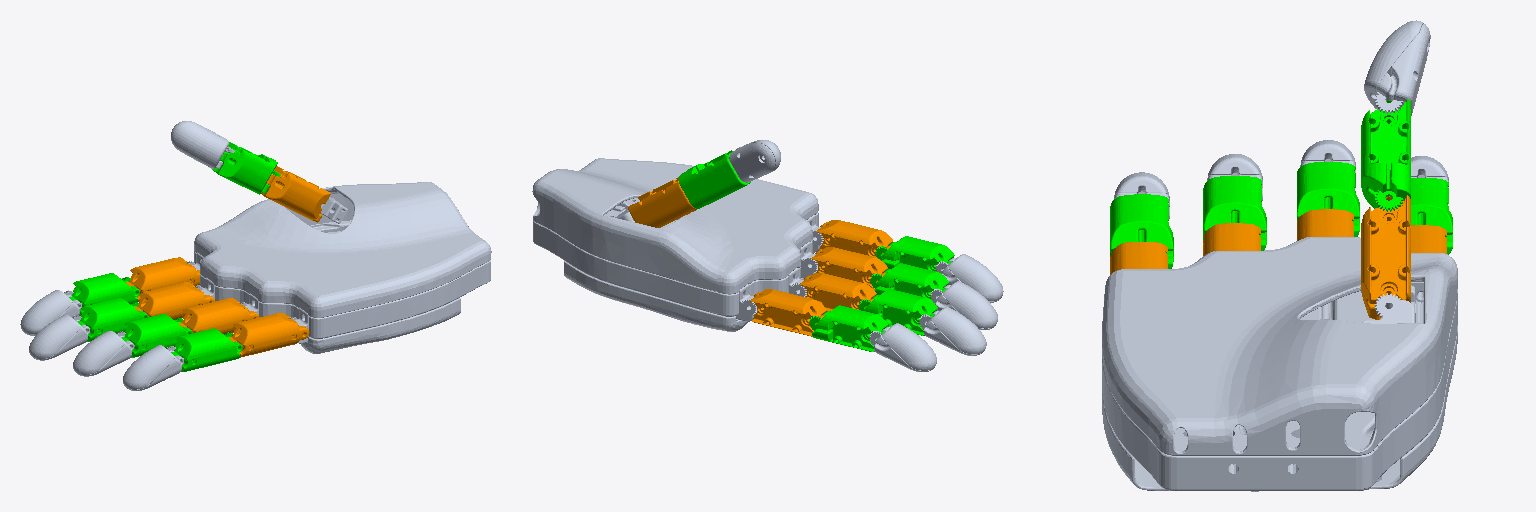
URDF robot description (Demo_urdf_v1):
<?xml version="1.0" encoding="utf-8"?>
<!-- This URDF was automatically created by SolidWorks to URDF Exporter! Originally created by Stephen Brawner (brawner@gmail.com) 
     Commit Version: 1.6.0-4-g7f85cfe  Build Version: 1.6.7995.38578
     For more information, please see http://wiki.ros.org/sw_urdf_exporter -->
<robot
  name="Demo_urdf_v1">
  <link
    name="base_link">
    <inertial>
      <origin
        xyz="-0.276691850958052 -0.00679699514218632 0.0271079155537804"
        rpy="0 0 0" />
      <mass
        value="0.118937765832508" />
      <inertia
        ixx="7.50225771502554E-05"
        ixy="1.0824903887145E-05"
        ixz="-4.36988365147381E-07"
        iyy="0.000125247274697285"
        iyz="-8.22465676234228E-07"
        izz="0.000197634240931225" />
    </inertial>
    <visual>
      <origin
        xyz="0 0 0"
        rpy="0 0 0" />
      <geometry>
        <mesh
          filename="../meshes/base_link.STL" />
      </geometry>
      <material
        name="">
        <color
          rgba="0.807843137254902 0.843137254901961 0.905882352941176 1" />
      </material>
    </visual>
    <collision>
      <origin
        xyz="0 0 0"
        rpy="0 0 0" />
      <geometry>
        <mesh
          filename="../meshes/base_link.STL" />
      </geometry>
    </collision>
  </link>
  <link
    name="link1_1">
    <inertial>
      <origin
        xyz="-0.016791 0.0004363 -0.0063885"
        rpy="0 0 0" />
      <mass
        value="0.0043065" />
      <inertia
        ixx="1.136E-07"
        ixy="-7.8546E-09"
        ixz="-8.4554E-09"
        iyy="3.8426E-07"
        iyz="3.0873E-09"
        izz="3.8715E-07" />
    </inertial>
    <visual>
      <origin
        xyz="0 0 0"
        rpy="0 0 0" />
      <geometry>
        <mesh
          filename="../meshes/link1_1.STL" />
      </geometry>
      <material
        name="">
        <color
          rgba="1 0.6 0 1" />
      </material>
    </visual>
    <collision>
      <origin
        xyz="0 0 0"
        rpy="0 0 0" />
      <geometry>
        <mesh
          filename="../meshes/link1_1.STL" />
      </geometry>
    </collision>
  </link>
  <joint
    name="pinky_mcp"
    type="revolute">
    <origin
      xyz="-0.32226 -0.052285 0.024636"
      rpy="1.5708 0 0" />
    <parent
      link="base_link" />
    <child
      link="link1_1" />
    <axis
      xyz="0 0 -1" />
    <limit
      lower="0"
      upper="1.22"
      effort="100"
      velocity="10" />
  </joint>
  <link
    name="link1_2">
    <inertial>
      <origin
        xyz="-0.0140713192299285 0.000184841443215608 -0.00534092772480163"
        rpy="0 0 0" />
      <mass
        value="0.0043622053966153" />
      <inertia
        ixx="1.30627059784595E-07"
        ixy="3.73911764864034E-09"
        ixz="1.7569801778505E-08"
        iyy="3.45005755950099E-07"
        iyz="1.01984025115493E-09"
        izz="3.3008063564416E-07" />
    </inertial>
    <visual>
      <origin
        xyz="0 0 0"
        rpy="0 0 0" />
      <geometry>
        <mesh
          filename="../meshes/link1_2.STL" />
      </geometry>
      <material
        name="">
        <color
          rgba="0 1 0 1" />
      </material>
    </visual>
    <collision>
      <origin
        xyz="0 0 0"
        rpy="0 0 0" />
      <geometry>
        <mesh
          filename="../meshes/link1_2.STL" />
      </geometry>
    </collision>
  </link>
  <joint
    name="pinky_pip"
    type="revolute">
    <origin
      xyz="-0.03359 0 -0.0017"
      rpy="0 0 0" />
    <parent
      link="link1_1" />
    <child
      link="link1_2" />
    <axis
      xyz="0 0 -1" />
    <limit
      lower="0"
      upper="1.39"
      effort="100"
      velocity="10" />
  </joint>
  <link
    name="link1_3">
    <inertial>
      <origin
        xyz="-0.0116557728461658 -0.00325678066856888 -0.0017405653903569"
        rpy="0 0 0" />
      <mass
        value="0.00274070367306949" />
      <inertia
        ixx="8.581326086562E-08"
        ixy="-4.79524790152063E-08"
        ixz="-4.45472239213644E-10"
        iyy="1.51772678137876E-07"
        iyz="-4.94651648238812E-10"
        izz="1.39369777995525E-07" />
    </inertial>
    <visual>
      <origin
        xyz="0 0 0"
        rpy="0 0 0" />
      <geometry>
        <mesh
          filename="../meshes/link1_3.STL" />
      </geometry>
      <material
        name="">
        <color
          rgba="0.807843137254902 0.843137254901961 0.905882352941176 1" />
      </material>
    </visual>
    <collision>
      <origin
        xyz="0 0 0"
        rpy="0 0 0" />
      <geometry>
        <mesh
          filename="../meshes/link1_3.STL" />
      </geometry>
    </collision>
  </link>
  <joint
    name="pinky_dip"
    type="revolute">
    <origin
      xyz="-0.03 0 -0.0047"
      rpy="0 0 0" />
    <parent
      link="link1_2" />
    <child
      link="link1_3" />
    <axis
      xyz="0 0 -1" />
    <limit
      lower="0"
      upper="1.39"
      effort="100"
      velocity="10" />
  </joint>
  <link
    name="link2_1">
    <inertial>
      <origin
        xyz="-0.0167910153892711 0.00043630387211905 -0.00278849217885846"
        rpy="0 0 0" />
      <mass
        value="0.00430646622487593" />
      <inertia
        ixx="1.13603188034335E-07"
        ixy="-7.85458563722642E-09"
        ixz="-8.4554420660212E-09"
        iyy="3.84256352899568E-07"
        iyz="3.08732548499075E-09"
        izz="3.87149024711531E-07" />
    </inertial>
    <visual>
      <origin
        xyz="0 0 0"
        rpy="0 0 0" />
      <geometry>
        <mesh
          filename="../meshes/link2_1.STL" />
      </geometry>
      <material
        name="">
        <color
          rgba="1 0.6 0 1" />
      </material>
    </visual>
    <collision>
      <origin
        xyz="0 0 0"
        rpy="0 0 0" />
      <geometry>
        <mesh
          filename="../meshes/link2_1.STL" />
      </geometry>
    </collision>
  </link>
  <joint
    name="ring_mcp"
    type="revolute">
    <origin
      xyz="-0.33407 -0.023685 0.024636"
      rpy="1.5708 0 0" />
    <parent
      link="base_link" />
    <child
      link="link2_1" />
    <axis
      xyz="0 0 -1" />
    <limit
      lower="0"
      upper="1.22"
      effort="100"
      velocity="10" />
  </joint>
  <link
    name="link2_2">
    <inertial>
      <origin
        xyz="-0.0140713192839576 0.000184841479738945 -0.0019409277903109"
        rpy="0 0 0" />
      <mass
        value="0.00436220544144609" />
      <inertia
        ixx="1.30627062477892E-07"
        ixy="3.73911872970818E-09"
        ixz="1.75698001735709E-08"
        iyy="3.45005759760731E-07"
        iyz="1.01984132689412E-09"
        izz="3.30080638240078E-07" />
    </inertial>
    <visual>
      <origin
        xyz="0 0 0"
        rpy="0 0 0" />
      <geometry>
        <mesh
          filename="../meshes/link2_2.STL" />
      </geometry>
      <material
        name="">
        <color
          rgba="0 1 0 1" />
      </material>
    </visual>
    <collision>
      <origin
        xyz="0 0 0"
        rpy="0 0 0" />
      <geometry>
        <mesh
          filename="../meshes/link2_2.STL" />
      </geometry>
    </collision>
  </link>
  <joint
    name="ring_pip"
    type="revolute">
    <origin
      xyz="-0.03359 0 -0.0015"
      rpy="0 0 0" />
    <parent
      link="link2_1" />
    <child
      link="link2_2" />
    <axis
      xyz="0 0 -1" />
    <limit
      lower="0"
      upper="1.39"
      effort="100"
      velocity="10" />
  </joint>
  <link
    name="link2_3">
    <inertial>
      <origin
        xyz="-0.011655780475307 -0.00325676839012254 0.00185942040088097"
        rpy="0 0 0" />
      <mass
        value="0.00274069743742847" />
      <inertia
        ixx="8.5813050631535E-08"
        ixy="-4.7952426188127E-08"
        ixz="-4.4546557852749E-10"
        iyy="1.51772401976439E-07"
        iyz="-4.94763216892908E-10"
        izz="1.3936970721227E-07" />
    </inertial>
    <visual>
      <origin
        xyz="0 0 0"
        rpy="0 0 0" />
      <geometry>
        <mesh
          filename="../meshes/link2_3.STL" />
      </geometry>
      <material
        name="">
        <color
          rgba="0.807843137254902 0.843137254901961 0.905882352941176 1" />
      </material>
    </visual>
    <collision>
      <origin
        xyz="0 0 0"
        rpy="0 0 0" />
      <geometry>
        <mesh
          filename="../meshes/link2_3.STL" />
      </geometry>
    </collision>
  </link>
  <joint
    name="ring_dip"
    type="revolute">
    <origin
      xyz="-0.03 0 -0.0049"
      rpy="0 0 0" />
    <parent
      link="link2_2" />
    <child
      link="link2_3" />
    <axis
      xyz="0 0 -1" />
    <limit
      lower="0"
      upper="1.39"
      effort="100"
      velocity="10" />
  </joint>
  <link
    name="link3_1">
    <inertial>
      <origin
        xyz="-0.0167910153776111 0.000436303876884481 -0.00278849217581445"
        rpy="0 0 0" />
      <mass
        value="0.00430646622952805" />
      <inertia
        ixx="1.13603188167855E-07"
        ixy="-7.85458587102222E-09"
        ixz="-8.45544222065919E-09"
        iyy="3.84256353513381E-07"
        iyz="3.08732542077117E-09"
        izz="3.871490253804E-07" />
    </inertial>
    <visual>
      <origin
        xyz="0 0 0"
        rpy="0 0 0" />
      <geometry>
        <mesh
          filename="../meshes/link3_1.STL" />
      </geometry>
      <material
        name="">
        <color
          rgba="1 0.6 0 1" />
      </material>
    </visual>
    <collision>
      <origin
        xyz="0 0 0"
        rpy="0 0 0" />
      <geometry>
        <mesh
          filename="../meshes/link3_1.STL" />
      </geometry>
    </collision>
  </link>
  <joint
    name="middle_mcp"
    type="revolute">
    <origin
      xyz="-0.34286 0.0013152 0.024636"
      rpy="1.5708 0 0" />
    <parent
      link="base_link" />
    <child
      link="link3_1" />
    <axis
      xyz="0 0 -1" />
    <limit
      lower="0"
      upper="1.22"
      effort="100"
      velocity="10" />
  </joint>
  <link
    name="link3_2">
    <inertial>
      <origin
        xyz="-0.0140713192346698 0.000184841437010651 -0.000840927727752855"
        rpy="0 0 0" />
      <mass
        value="0.00436220540069286" />
      <inertia
        ixx="1.30627059788518E-07"
        ixy="3.73911756926656E-09"
        ixz="1.75698018564532E-08"
        iyy="3.45005756657766E-07"
        iyz="1.01984007943479E-09"
        izz="3.30080636184012E-07" />
    </inertial>
    <visual>
      <origin
        xyz="0 0 0"
        rpy="0 0 0" />
      <geometry>
        <mesh
          filename="../meshes/link3_2.STL" />
      </geometry>
      <material
        name="">
        <color
          rgba="0 1 0 1" />
      </material>
    </visual>
    <collision>
      <origin
        xyz="0 0 0"
        rpy="0 0 0" />
      <geometry>
        <mesh
          filename="../meshes/link3_2.STL" />
      </geometry>
    </collision>
  </link>
  <joint
    name="middle_pip"
    type="revolute">
    <origin
      xyz="-0.03359 0 -0.0026"
      rpy="0 0 0" />
    <parent
      link="link3_1" />
    <child
      link="link3_2" />
    <axis
      xyz="0 0 -1" />
    <limit
      lower="0"
      upper="1.39"
      effort="100"
      velocity="10" />
  </joint>
  <link
    name="link3_3">
    <inertial>
      <origin
        xyz="-0.0116557744553441 -0.00325678154604352 0.00185943682581026"
        rpy="0 0 0" />
      <mass
        value="0.00274070418159376" />
      <inertia
        ixx="8.58133148388386E-08"
        ixy="-4.79524739892539E-08"
        ixz="-4.45440860439419E-10"
        iyy="1.51772697709827E-07"
        iyz="-4.94638824849694E-10"
        izz="1.39369743348582E-07" />
    </inertial>
    <visual>
      <origin
        xyz="0 0 0"
        rpy="0 0 0" />
      <geometry>
        <mesh
          filename="../meshes/link3_3.STL" />
      </geometry>
      <material
        name="">
        <color
          rgba="0.807843137254902 0.843137254901961 0.905882352941176 1" />
      </material>
    </visual>
    <collision>
      <origin
        xyz="0 0 0"
        rpy="0 0 0" />
      <geometry>
        <mesh
          filename="../meshes/link3_3.STL" />
      </geometry>
    </collision>
  </link>
  <joint
    name="middle_dip"
    type="revolute">
    <origin
      xyz="-0.03 0 -0.0038"
      rpy="0 0 0" />
    <parent
      link="link3_2" />
    <child
      link="link3_3" />
    <axis
      xyz="0 0 -1" />
    <limit
      lower="0"
      upper="1.39"
      effort="100"
      velocity="10" />
  </joint>
  <link
    name="link4_1">
    <inertial>
      <origin
        xyz="-0.0167910153897738 0.000436303872832444 -0.00278849217827209"
        rpy="0 0 0" />
      <mass
        value="0.00430646622476171" />
      <inertia
        ixx="1.13603188038388E-07"
        ixy="-7.85458566731202E-09"
        ixz="-8.45544209242269E-09"
        iyy="3.84256352863369E-07"
        iyz="3.08732548406429E-09"
        izz="3.87149024685476E-07" />
    </inertial>
    <visual>
      <origin
        xyz="0 0 0"
        rpy="0 0 0" />
      <geometry>
        <mesh
          filename="../meshes/link4_1.STL" />
      </geometry>
      <material
        name="">
        <color
          rgba="1 0.6 0 1" />
      </material>
    </visual>
    <collision>
      <origin
        xyz="0 0 0"
        rpy="0 0 0" />
      <geometry>
        <mesh
          filename="../meshes/link4_1.STL" />
      </geometry>
    </collision>
  </link>
  <joint
    name="index_mcp"
    type="revolute">
    <origin
      xyz="-0.3328 0.026315 0.024636"
      rpy="1.5708 0 0" />
    <parent
      link="base_link" />
    <child
      link="link4_1" />
    <axis
      xyz="0 0 -1" />
    <limit
      lower="0"
      upper="1.22"
      effort="100"
      velocity="10" />
  </joint>
  <link
    name="link4_2">
    <inertial>
      <origin
        xyz="-0.0140713191942678 0.000184841402766124 -0.000840927659380038"
        rpy="0 0 0" />
      <mass
        value="0.004362205362105" />
      <inertia
        ixx="1.30627057095179E-07"
        ixy="3.73911662238674E-09"
        ixz="1.75698034461654E-08"
        iyy="3.45005753718254E-07"
        iyz="1.0198389865939E-09"
        izz="3.30080634538108E-07" />
    </inertial>
    <visual>
      <origin
        xyz="0 0 0"
        rpy="0 0 0" />
      <geometry>
        <mesh
          filename="../meshes/link4_2.STL" />
      </geometry>
      <material
        name="">
        <color
          rgba="0 1 0 1" />
      </material>
    </visual>
    <collision>
      <origin
        xyz="0 0 0"
        rpy="0 0 0" />
      <geometry>
        <mesh
          filename="../meshes/link4_2.STL" />
      </geometry>
    </collision>
  </link>
  <joint
    name="index_pip"
    type="revolute">
    <origin
      xyz="-0.03359 0 -0.0026"
      rpy="0 0 0" />
    <parent
      link="link4_1" />
    <child
      link="link4_2" />
    <axis
      xyz="0 0 -1" />
    <limit
      lower="0"
      upper="1.39"
      effort="100"
      velocity="10" />
  </joint>
  <link
    name="link4_3">
    <inertial>
      <origin
        xyz="-0.0116557728740648 -0.00325678068234626 -0.00174056536779698"
        rpy="0 0 0" />
      <mass
        value="0.00274070366188495" />
      <inertia
        ixx="8.58132602881276E-08"
        ixy="-4.79524788619592E-08"
        ixz="-4.45472091583115E-10"
        iyy="1.51772678049037E-07"
        iyz="-4.94651660834386E-10"
        izz="1.39369777796999E-07" />
    </inertial>
    <visual>
      <origin
        xyz="0 0 0"
        rpy="0 0 0" />
      <geometry>
        <mesh
          filename="../meshes/link4_3.STL" />
      </geometry>
      <material
        name="">
        <color
          rgba="0.807843137254902 0.843137254901961 0.905882352941176 1" />
      </material>
    </visual>
    <collision>
      <origin
        xyz="0 0 0"
        rpy="0 0 0" />
      <geometry>
        <mesh
          filename="../meshes/link4_3.STL" />
      </geometry>
    </collision>
  </link>
  <joint
    name="index_dip"
    type="revolute">
    <origin
      xyz="-0.03 0 -0.0002"
      rpy="0 0 0" />
    <parent
      link="link4_2" />
    <child
      link="link4_3" />
    <axis
      xyz="0 0 -1" />
    <limit
      lower="0"
      upper="1.39"
      effort="100"
      velocity="10" />
  </joint>
  <link
    name="link5_1">
    <inertial>
      <origin
        xyz="-0.0167909747281515 0.00043598931375239 -0.00278795915371668"
        rpy="0 0 0" />
      <mass
        value="0.00430606457151784" />
      <inertia
        ixx="1.13587806697974E-07"
        ixy="-7.85604403473961E-09"
        ixz="-8.45499918241097E-09"
        iyy="3.84235408925954E-07"
        iyz="3.0771543196487E-09"
        izz="3.87136359412944E-07" />
    </inertial>
    <visual>
      <origin
        xyz="0 0 0"
        rpy="0 0 0" />
      <geometry>
        <mesh
          filename="../meshes/link5_1.STL" />
      </geometry>
      <material
        name="">
        <color
          rgba="1 0.6 0 1" />
      </material>
    </visual>
    <collision>
      <origin
        xyz="0 0 0"
        rpy="0 0 0" />
      <geometry>
        <mesh
          filename="../meshes/link5_1.STL" />
      </geometry>
    </collision>
  </link>
  <joint
    name="thumb_cmc"
    type="revolute">
    <origin
      xyz="-0.27277 0.022223 0.044042"
      rpy="3.1416 0.61087 0" />
    <parent
      link="base_link" />
    <child
      link="link5_1" />
    <axis
      xyz="0 0 -1" />
    <limit
      lower="0"
      upper="1.22"
      effort="100"
      velocity="10" />
  </joint>
  <link
    name="link5_2">
    <inertial>
      <origin
        xyz="-0.0140713204447799 0.000184848661569936 -0.000840924139406812"
        rpy="0 0 0" />
      <mass
        value="0.00436221884189422" />
      <inertia
        ixx="1.30627325842536E-07"
        ixy="3.73909054036078E-09"
        ixz="1.75698378033219E-08"
        iyy="3.4500590584123E-07"
        iyz="1.01962367521919E-09"
        izz="3.30081443521808E-07" />
    </inertial>
    <visual>
      <origin
        xyz="0 0 0"
        rpy="0 0 0" />
      <geometry>
        <mesh
          filename="../meshes/link5_2.STL" />
      </geometry>
      <material
        name="">
        <color
          rgba="0 1 0 1" />
      </material>
    </visual>
    <collision>
      <origin
        xyz="0 0 0"
        rpy="0 0 0" />
      <geometry>
        <mesh
          filename="../meshes/link5_2.STL" />
      </geometry>
    </collision>
  </link>
  <joint
    name="thumb_mcp"
    type="revolute">
    <origin
      xyz="-0.03359 0 -0.0026"
      rpy="0 0 0" />
    <parent
      link="link5_1" />
    <child
      link="link5_2" />
    <axis
      xyz="0 0 -1" />
    <limit
      lower="0"
      upper="1.39"
      effort="100"
      velocity="10" />
  </joint>
  <link
    name="link5_3">
    <inertial>
      <origin
        xyz="-0.0119569487101702 -0.00274168193716449 -0.00175058857129824"
        rpy="0 0 0" />
      <mass
        value="0.00332717576261283" />
      <inertia
        ixx="1.01269969963618E-07"
        ixy="-3.55147622035469E-08"
        ixz="-1.03008296809993E-09"
        iyy="2.02212513216581E-07"
        iyz="-2.3067062988904E-10"
        izz="2.00693218039185E-07" />
    </inertial>
    <visual>
      <origin
        xyz="0 0 0"
        rpy="0 0 0" />
      <geometry>
        <mesh
          filename="../meshes/link5_3.STL" />
      </geometry>
      <material
        name="">
        <color
          rgba="0.807843137254902 0.843137254901961 0.905882352941176 1" />
      </material>
    </visual>
    <collision>
      <origin
        xyz="0 0 0"
        rpy="0 0 0" />
      <geometry>
        <mesh
          filename="../meshes/link5_3.STL" />
      </geometry>
    </collision>
  </link>
  <joint
    name="thumb_ip"
    type="revolute">
    <origin
      xyz="-0.03 0 -0.0002"
      rpy="0 0 0" />
    <parent
      link="link5_2" />
    <child
      link="link5_3" />
    <axis
      xyz="0 0 -1" />
    <limit
      lower="0"
      upper="1.39"
      effort="100"
      velocity="10" />
  </joint>
</robot>

--- What the picture shows (computed from the rendered views, not written in the file) ---
The picture shows the robot from 3 angles, left to right: view 1: azimuth 30°, elevation 25°; view 2: azimuth 150°, elevation 25°; view 3: azimuth 270°, elevation 25°; orthographic projection.
Robot: Demo_urdf_v1 — 16 links, 15 joints (15 revolute); root link base_link; default pose: all joints at 0.
Visible links, largest first — view 1: base_link, link1_1, link1_2, link5_1, link5_2, link5_3, link2_3, link1_3, link3_3, link3_1, link2_1, link2_2 (+4 smaller); view 2: base_link, link4_1, link4_2, link5_2, link4_3, link3_3, link5_1, link3_2, link3_1, link1_1, link2_3, link2_1 (+4 smaller); view 3: base_link, link5_1, link5_2, link5_3, link1_2, link2_2, link3_2, link4_2, link2_1, link3_1, link1_1, link2_3 (+4 smaller).
Link boxes in pixels (x1,y1,x2,y2): base_link: (187, 182, 491, 353); link1_1: (229, 313, 309, 357); link1_2: (171, 328, 242, 371); link5_1: (261, 166, 330, 222); link5_2: (212, 142, 280, 194); link5_3: (171, 121, 234, 168); link2_3: (73, 331, 134, 376); link1_3: (123, 345, 183, 390); link3_3: (29, 315, 89, 360); link3_1: (134, 282, 214, 319); link2_1: (178, 298, 258, 333); link2_2: (122, 314, 192, 357); base_link: (532, 158, 823, 331); link4_1: (750, 289, 826, 336); link4_2: (809, 305, 887, 351); link5_2: (679, 150, 750, 208); link4_3: (869, 323, 936, 371); link3_3: (919, 307, 986, 355); link5_1: (628, 177, 696, 227); link3_2: (858, 289, 937, 335); link3_1: (799, 273, 876, 311); link1_1: (816, 220, 892, 257); link2_3: (930, 281, 997, 329); link2_1: (811, 247, 887, 289); base_link: (1102, 237, 1457, 491); link5_1: (1361, 195, 1410, 319); link5_2: (1361, 99, 1410, 211); link5_3: (1364, 20, 1430, 115); link1_2: (1110, 194, 1173, 268); link2_2: (1203, 176, 1266, 250); link3_2: (1297, 162, 1359, 236); link4_2: (1411, 178, 1452, 254); link2_1: (1203, 223, 1260, 255); link3_1: (1297, 209, 1353, 240); link1_1: (1110, 242, 1167, 274); link2_3: (1207, 154, 1262, 202).
Size in the robot's own frame: 0.2181 by 0.0956 by 0.092 metres.
16 mesh visuals loaded from 16 distinct referenced files (16 binary STL).
